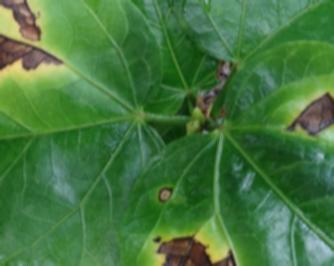Tomato Septoria leaf spot: (119, 57, 334, 266), (0, 0, 161, 266)
